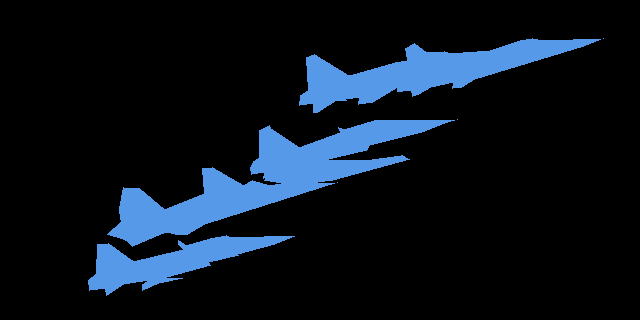Airplane: (299, 38, 604, 113), (107, 167, 338, 247), (88, 235, 295, 295), (250, 119, 457, 179), (264, 155, 410, 185)
